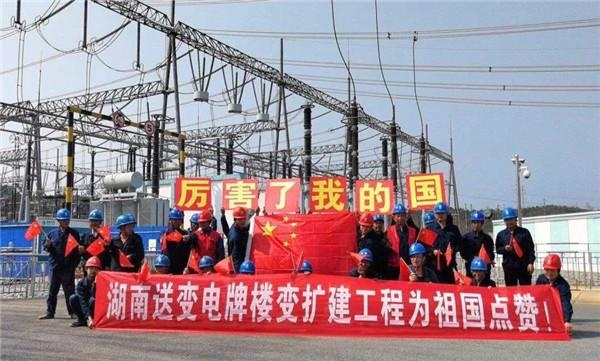blue: (406, 240, 428, 266), (114, 210, 135, 236), (469, 254, 488, 280), (499, 204, 519, 227), (431, 200, 450, 223), (151, 253, 171, 274), (53, 207, 73, 227), (468, 209, 486, 231), (87, 208, 104, 231), (196, 254, 215, 274), (166, 206, 184, 227), (390, 203, 408, 224), (356, 247, 373, 269), (238, 259, 256, 278), (371, 214, 386, 232), (188, 211, 199, 231)
red: (540, 250, 562, 280), (356, 210, 375, 235), (230, 205, 249, 227), (83, 256, 101, 278), (196, 209, 212, 229)
